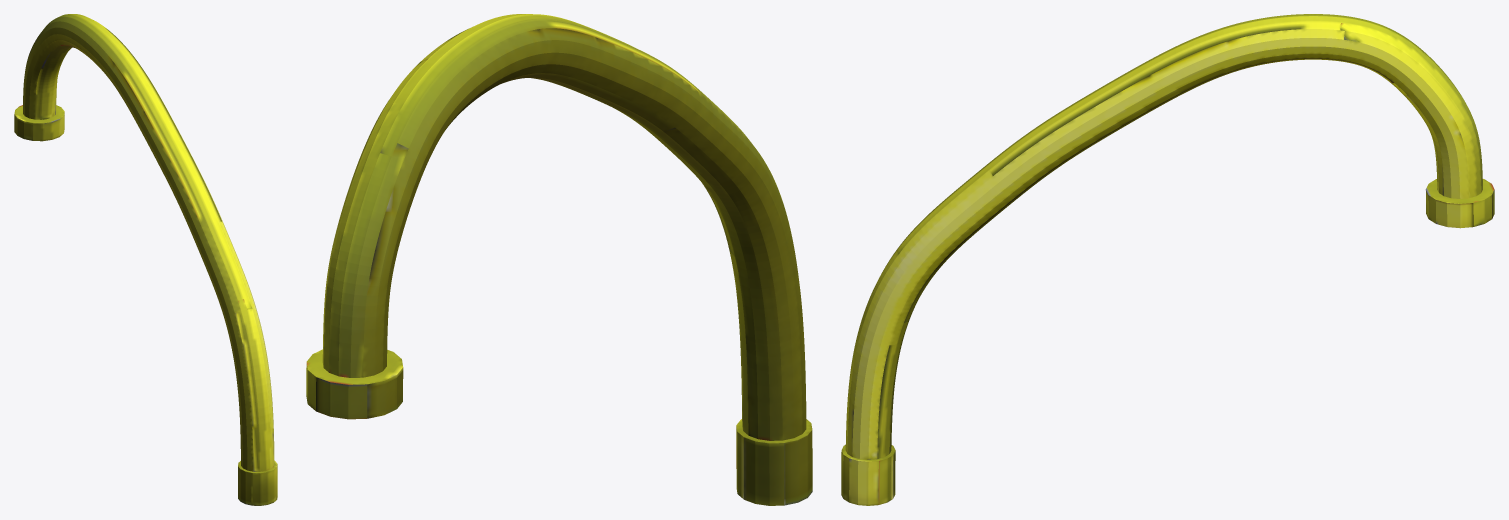
File: bomb_wire_y.gltf
The picture shows the model from 3 angles, left to right: view 1: azimuth 30°, elevation 25°; view 2: azimuth 150°, elevation 25°; view 3: azimuth 270°, elevation 25°; orthographic projection. The views are drawn at different scales.
Parts seen in each view (by area): view 1: wireY; view 2: wireY; view 3: wireY.
Boxes of the visible parts, box(x1,y1,x2,y2) form: wireY: box(14, 14, 277, 505); wireY: box(306, 14, 812, 505); wireY: box(841, 14, 1494, 505).
Bounding box in the file's own units: 0.7521 × 5.77 × 7.15.
1 material, 1 textured.
